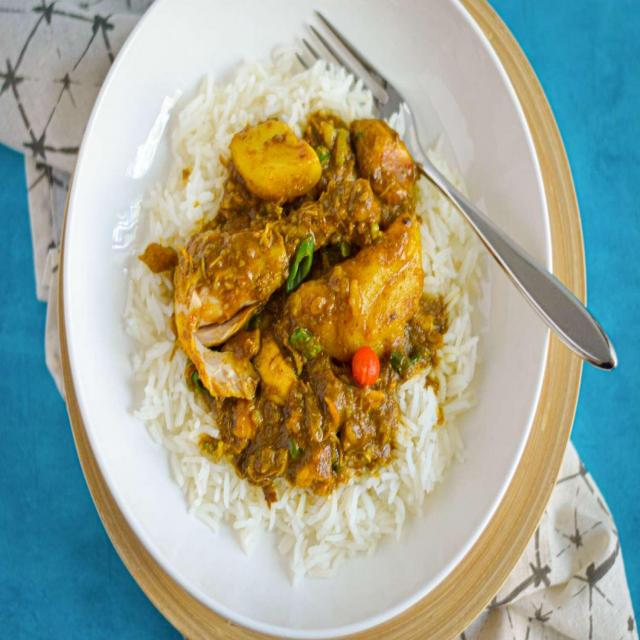chicken: (190, 123, 440, 470)
rice: (131, 185, 189, 436)
